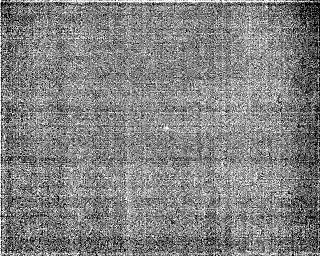AIRPLANE: (161, 124, 172, 135)
